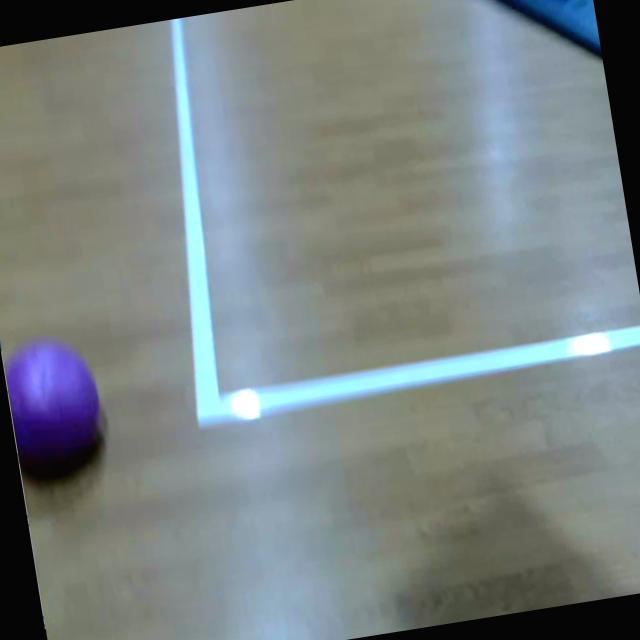purple_ball: (0, 329, 110, 486)
